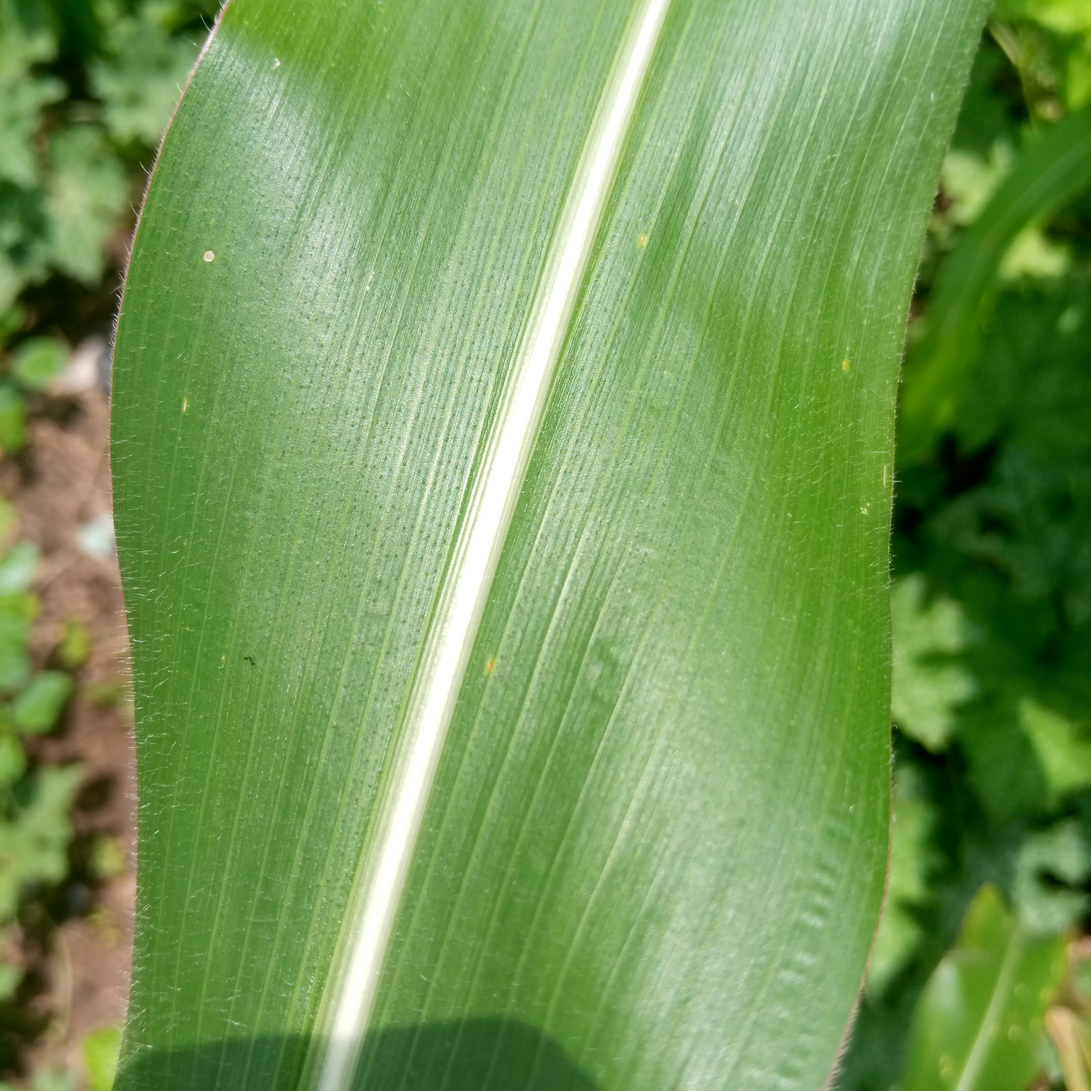healthy: (242, 147, 815, 1048)
